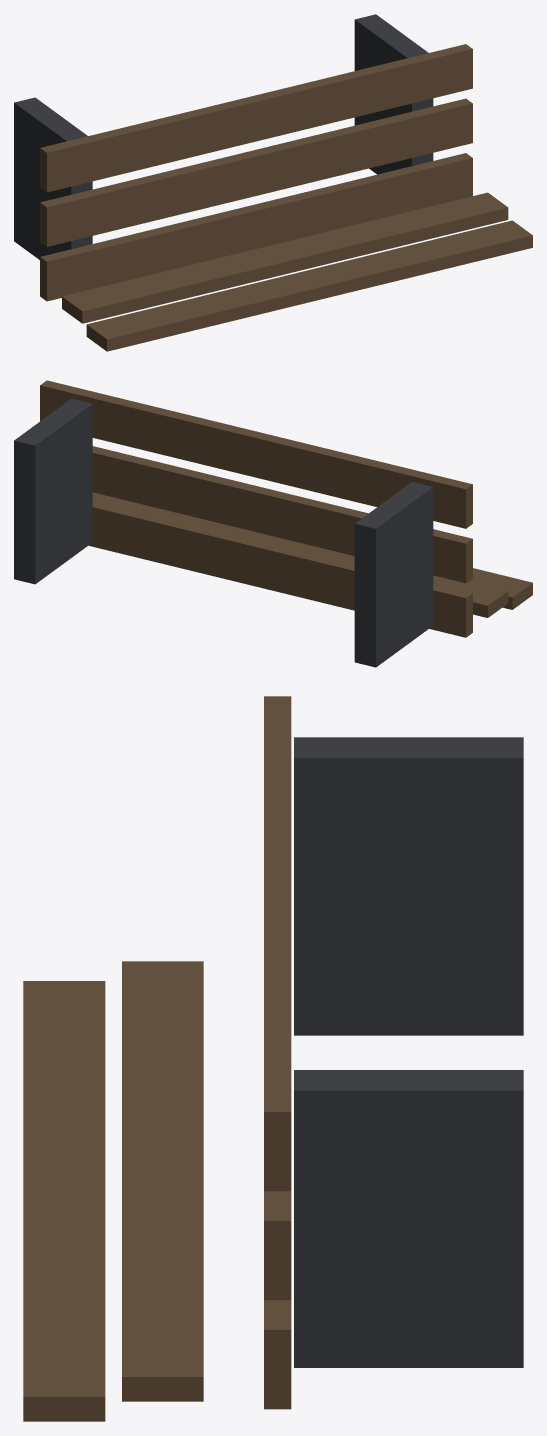
The model's file is bench.glb.
3 renders of one model, top to bottom at view 1: azimuth 30°, elevation 25°; view 2: azimuth 150°, elevation 25°; view 3: azimuth 270°, elevation 25°, orthographic. The views are drawn at different scales.
Parts seen in each view (by area): view 1: bench; view 2: bench; view 3: bench.
Part boxes in pixels (<box>): bench: <box>14,14,532,351</box>; bench: <box>14,380,532,667</box>; bench: <box>23,696,523,1421</box>.
Size of the model in its own units: 1.8 by 0.625 by 0.915.
